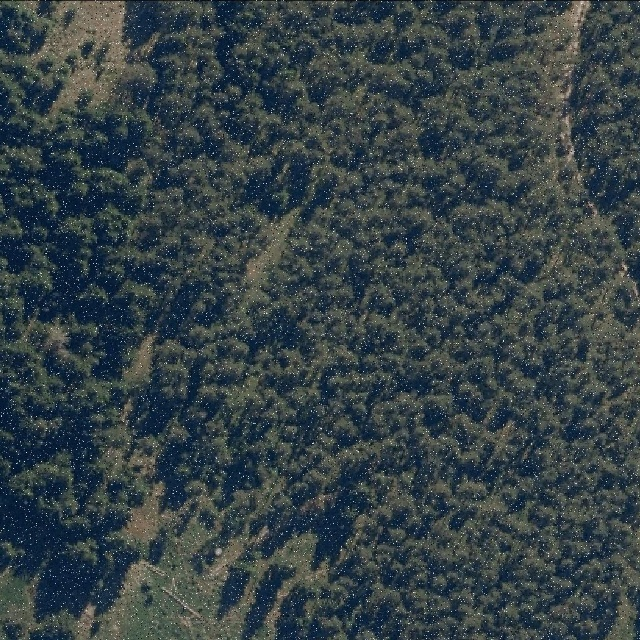vegetation: (0, 0, 640, 640), (567, 0, 640, 306)
